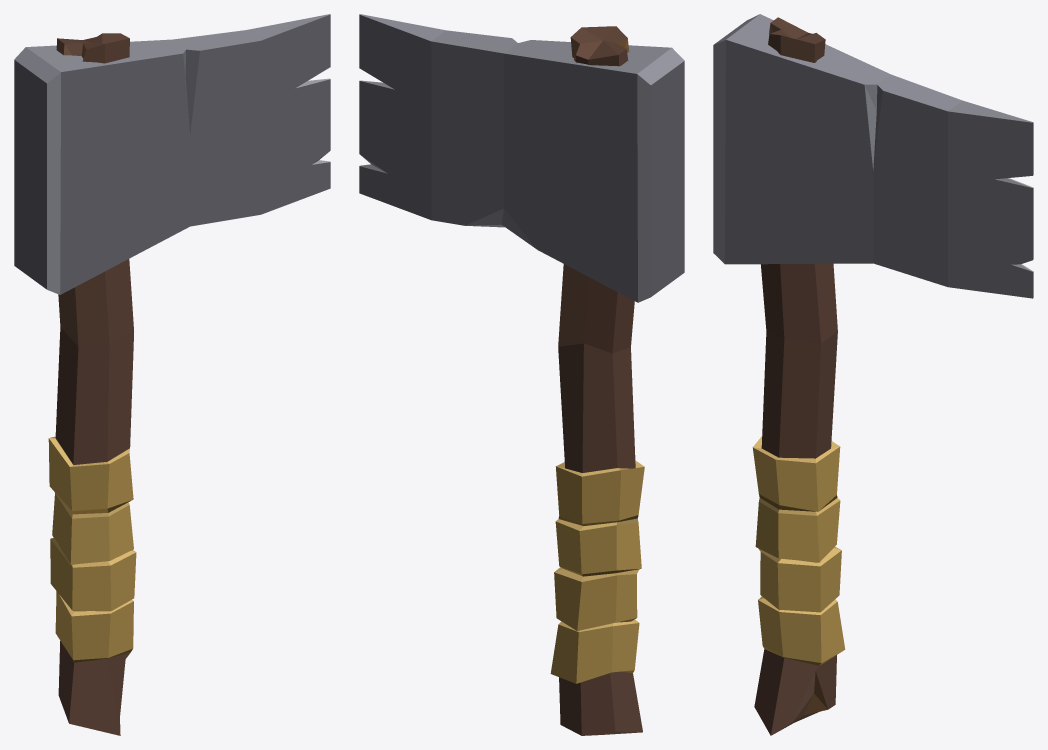
File: Axe_01.glb
3 renders of one model, left to right at view 1: azimuth 30°, elevation 25°; view 2: azimuth 150°, elevation 25°; view 3: azimuth 330°, elevation 25°, orthographic. The views are drawn at different scales.
Visible parts, largest first — view 1: Axe_01; view 2: Axe_01; view 3: Axe_01.
Boxes of the visible parts, x1=… form: Axe_01: x1=14, y1=14, x2=330, y2=735; Axe_01: x1=359, y1=14, x2=684, y2=735; Axe_01: x1=713, y1=14, x2=1033, y2=735.
Size of what is drawn, in the model's own units: 0.2879 by 0.6287 by 0.0797.
Materials: 1 (1 with a texture image).
